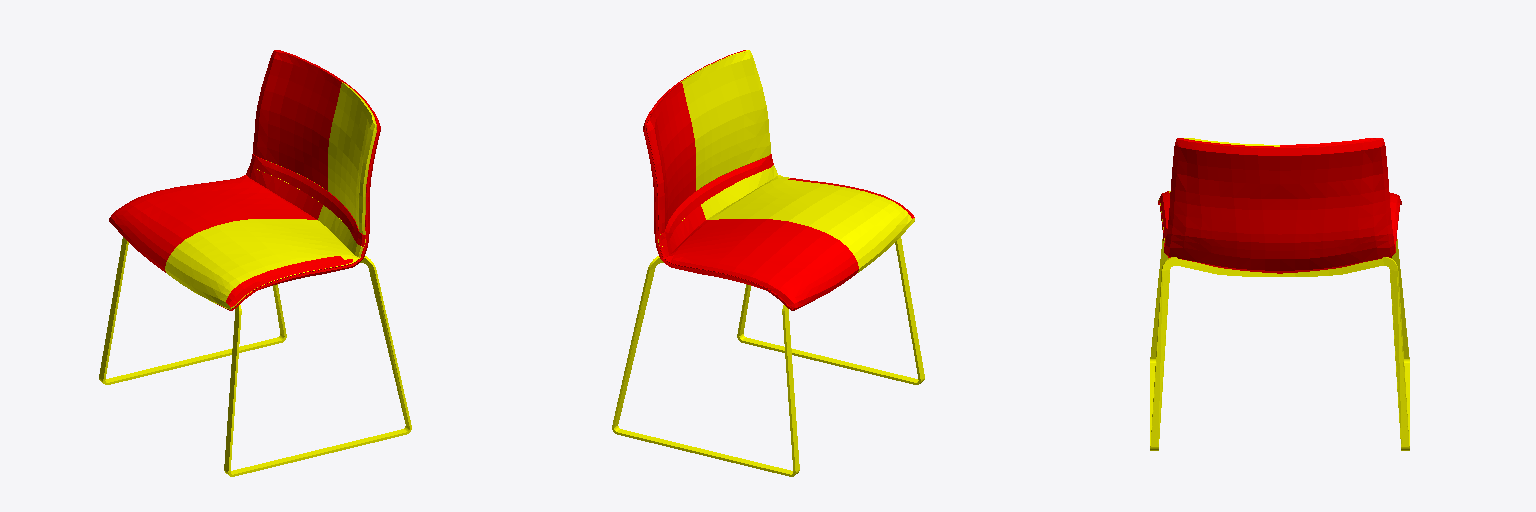
3 renders of one model, left to right at view 1: azimuth 30°, elevation 25°; view 2: azimuth 150°, elevation 25°; view 3: azimuth 270°, elevation 25°, orthographic.
Parts seen in each view (by area): view 1: Fabric, default; view 2: Fabric, default; view 3: Fabric, default.
Boxes of the visible parts, x1=… form: Fabric: x1=109, y1=50, x2=380, y2=310; default: x1=99, y1=237, x2=411, y2=476; Fabric: x1=643, y1=50, x2=914, y2=310; default: x1=612, y1=237, x2=924, y2=476; Fabric: x1=1158, y1=138, x2=1401, y2=273; default: x1=1150, y1=239, x2=1409, y2=450.
Size of the model in its own units: 0.4979 by 0.7894 by 0.6048.